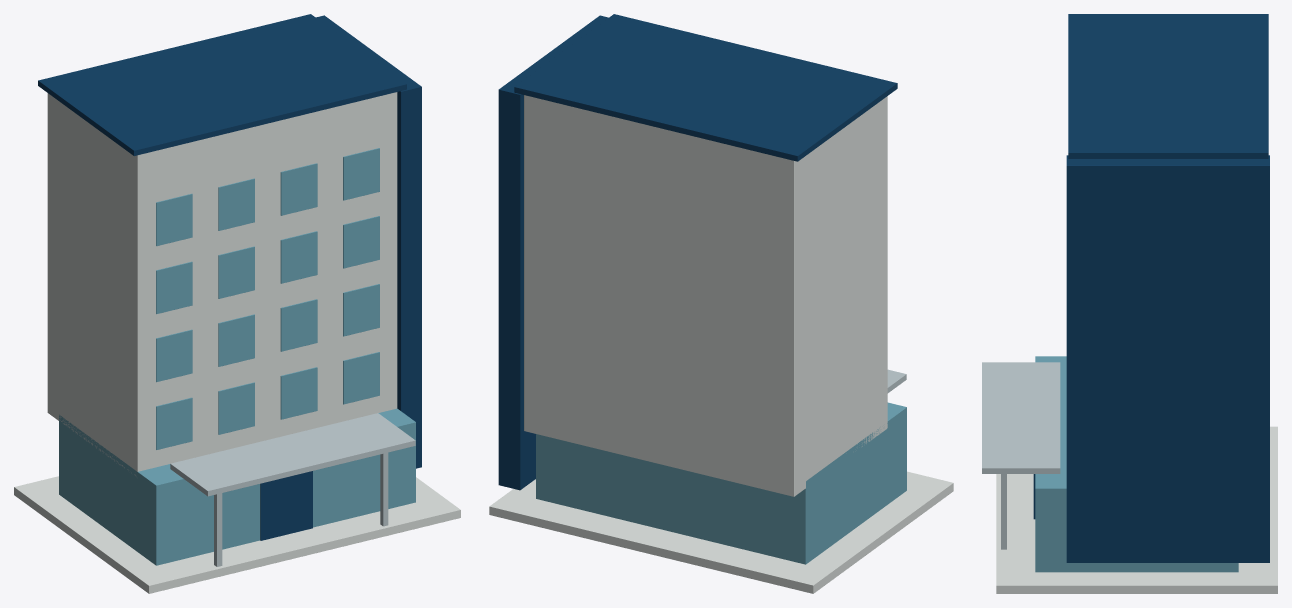
Rendered from edited.glb.
The picture shows the model from 3 angles, left to right: view 1: azimuth 30°, elevation 25°; view 2: azimuth 150°, elevation 25°; view 3: azimuth 270°, elevation 25°; orthographic projection. The views are drawn at different scales.
Parts seen in each view (by area): view 1: TOWER_FrontPier, TOWER_Side, ROOF, FOUNDATION, DROPOFF_Canopy, LOBBY_Side, CORE_FrontPier, LOBBY_FrontPier, LOBBY_FrontPier.001, LOBBY_Entry, GUESTROOM_Window.008, GUESTROOM_Window.010 (+20 smaller); view 2: TOWER_Back, TOWER_Side, ROOF, LOBBY_Back, FOUNDATION, LOBBY_Side, CORE_Back, CORE_Side.001, CORE_Side, CORE_Roof; view 3: CORE_Side, ROOF, FOUNDATION, DROPOFF_Canopy, LOBBY_Side.001, CORE_Roof, LOBBY_Roof, CORE_FrontPier, LOBBY_FrontPier.001, DROPOFF_Column.001.
Boxes of the visible parts, <box> form: TOWER_FrontPier: <box>135,92,397,471</box>; TOWER_Side: <box>47,93,141,476</box>; ROOF: <box>38,14,406,155</box>; FOUNDATION: <box>14,476,460,593</box>; DROPOFF_Canopy: <box>170,413,415,496</box>; LOBBY_Side: <box>59,414,160,564</box>; CORE_FrontPier: <box>400,86,421,467</box>; LOBBY_FrontPier: <box>154,478,260,565</box>; LOBBY_FrontPier.001: <box>313,420,415,527</box>; LOBBY_Entry: <box>260,471,312,540</box>; GUESTROOM_Window.008: <box>280,367,317,419</box>; GUESTROOM_Window.010: <box>280,231,317,283</box>; TOWER_Back: <box>524,95,796,496</box>; TOWER_Side: <box>790,96,887,496</box>; ROOF: <box>514,14,897,161</box>; LOBBY_Back: <box>536,434,808,564</box>; FOUNDATION: <box>489,471,953,593</box>; LOBBY_Side: <box>801,407,906,563</box>; CORE_Back: <box>499,89,519,488</box>; CORE_Side.001: <box>519,94,535,489</box>; CORE_Side: <box>498,15,600,483</box>; CORE_Roof: <box>498,16,607,95</box>; CORE_Side: <box>1066,165,1269,562</box>; ROOF: <box>1068,14,1268,158</box>; FOUNDATION: <box>996,426,1277,593</box>; DROPOFF_Canopy: <box>982,362,1060,473</box>; LOBBY_Side.001: <box>1035,489,1238,572</box>; CORE_Roof: <box>1067,155,1269,166</box>; LOBBY_Roof: <box>1035,356,1066,492</box>; CORE_FrontPier: <box>1066,156,1067,562</box>; LOBBY_FrontPier.001: <box>1035,474,1040,572</box>; DROPOFF_Column.001: <box>1001,474,1006,549</box>.
Size of the model in its own units: 12 by 15.2 by 9.45.
